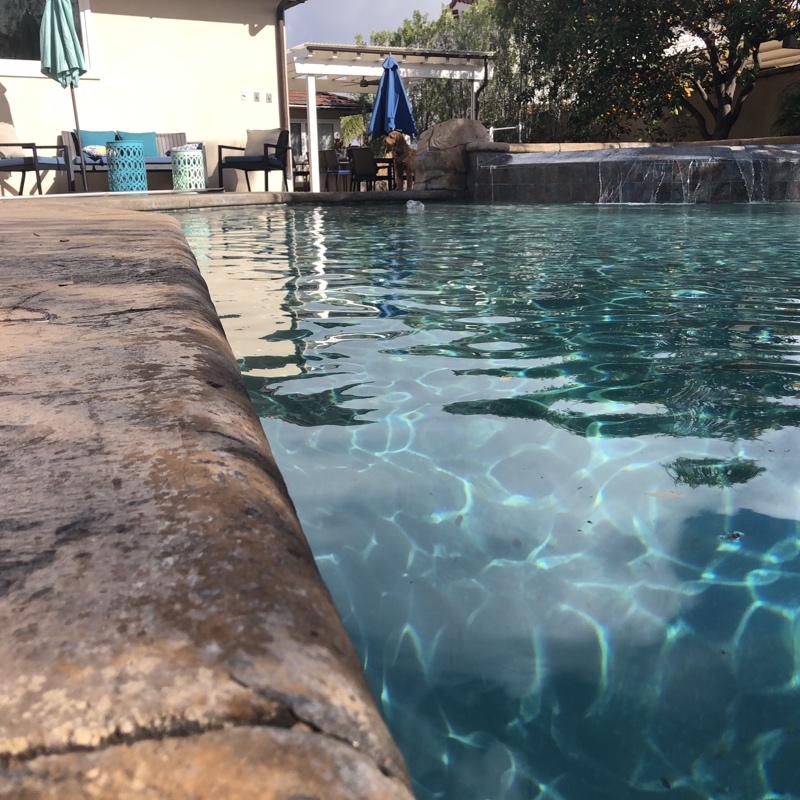Plastic Bottle: (404, 196, 425, 217)
